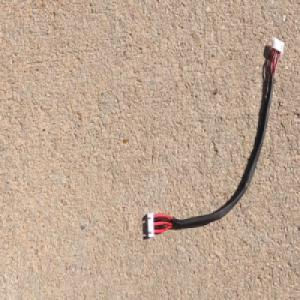Wire: (145, 36, 285, 240)
